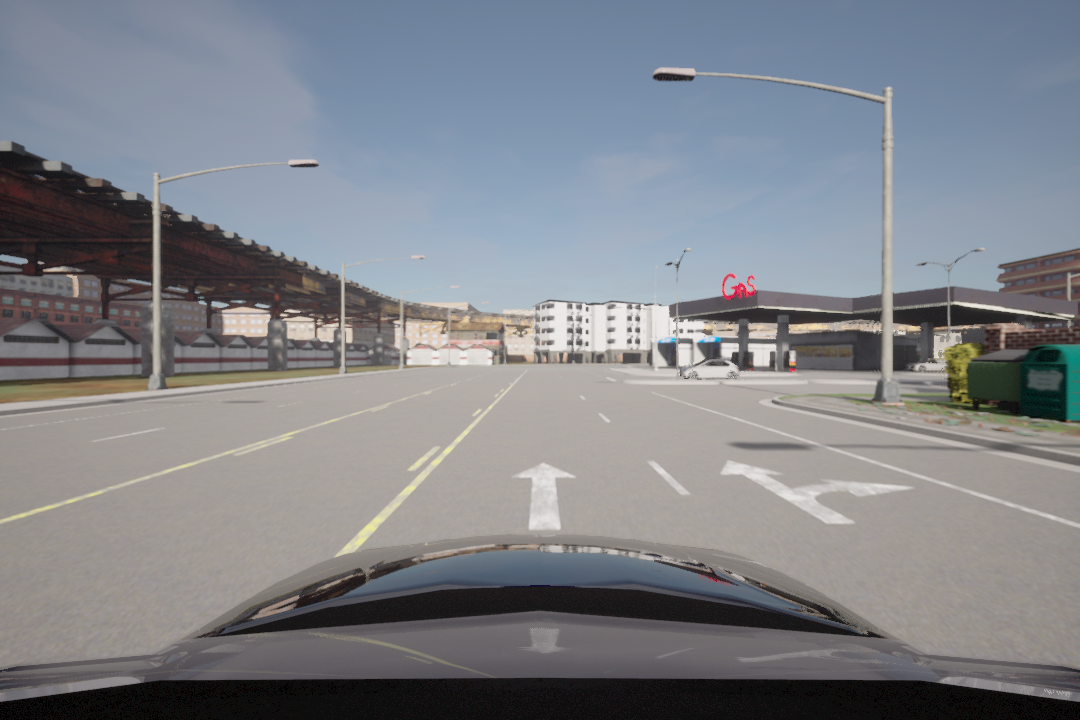RoadSign_forward: (505, 461, 593, 531)
RoadSign_forward_right: (714, 458, 918, 531)
